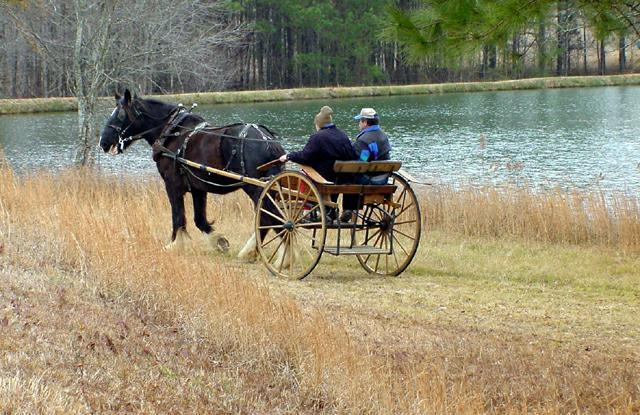horse: (98, 85, 288, 254)
